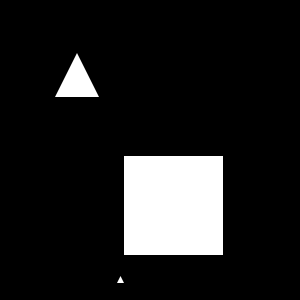circle: (124, 156, 223, 255)
triangle: (55, 53, 99, 97), (117, 276, 124, 283)
